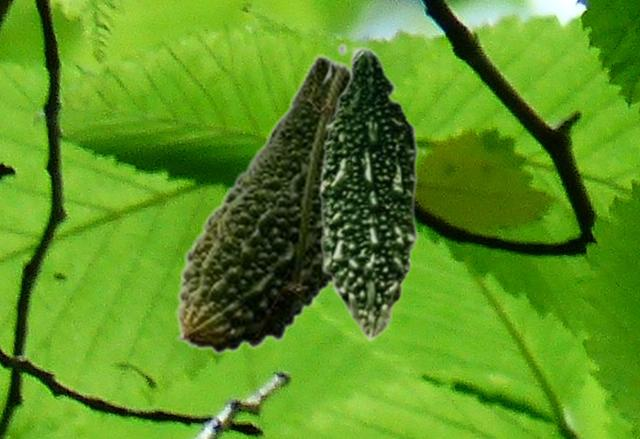ampalaya: (175, 54, 348, 354), (318, 42, 425, 342)
